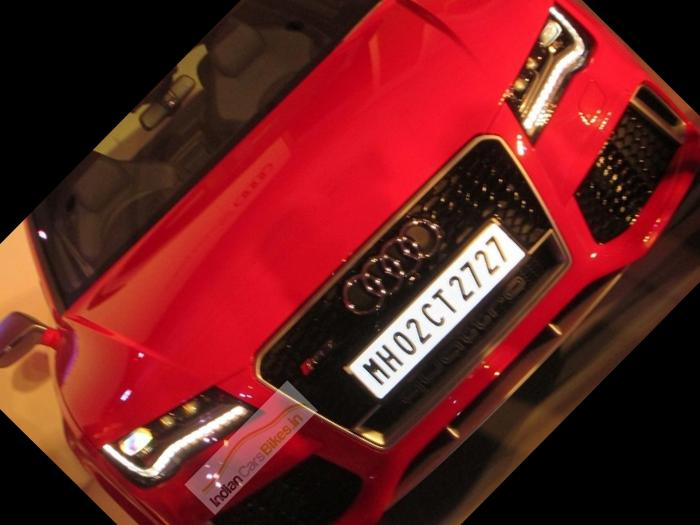plate: (334, 197, 560, 425)
